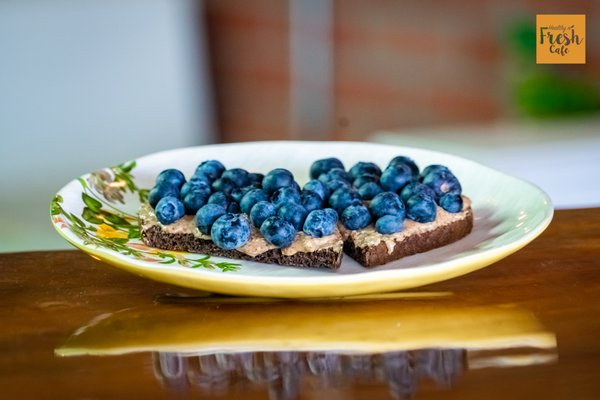curry: (13, 137, 593, 394)
